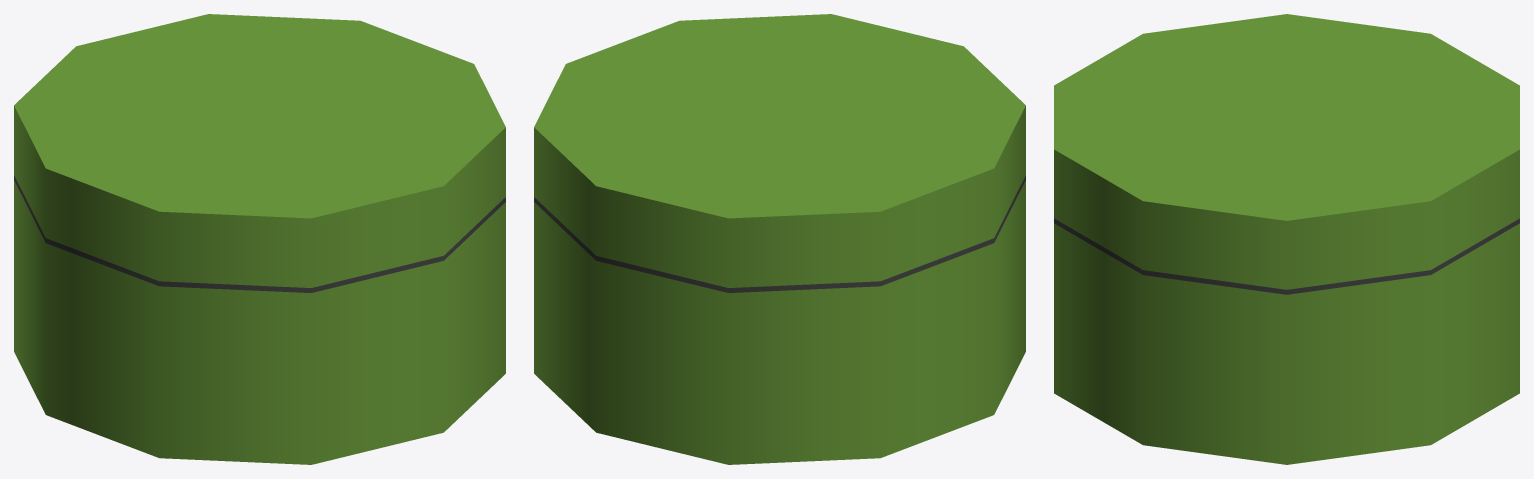
The model's file is M_Gift_13.FBX.
The picture shows the model from 3 angles, left to right: view 1: azimuth 30°, elevation 25°; view 2: azimuth 150°, elevation 25°; view 3: azimuth 270°, elevation 25°; orthographic projection.
Visible parts, largest first — view 1: Cylinder020; view 2: Cylinder020; view 3: Cylinder020.
Boxes of the visible parts, x1,y1,x2,y2 form: Cylinder020: [14, 14, 505, 464]; Cylinder020: [534, 14, 1025, 464]; Cylinder020: [1054, 14, 1519, 464].
Size of the model in its own units: 61.6 by 33.87 by 58.59.
